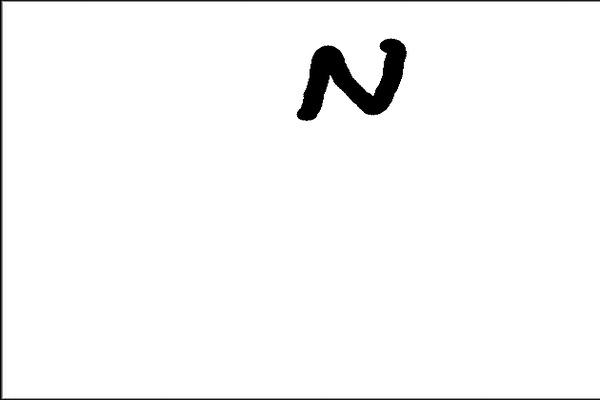N: (292, 30, 410, 123)
